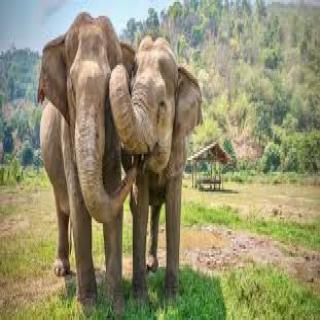Elephant: (35, 10, 136, 314), (110, 28, 202, 306)
